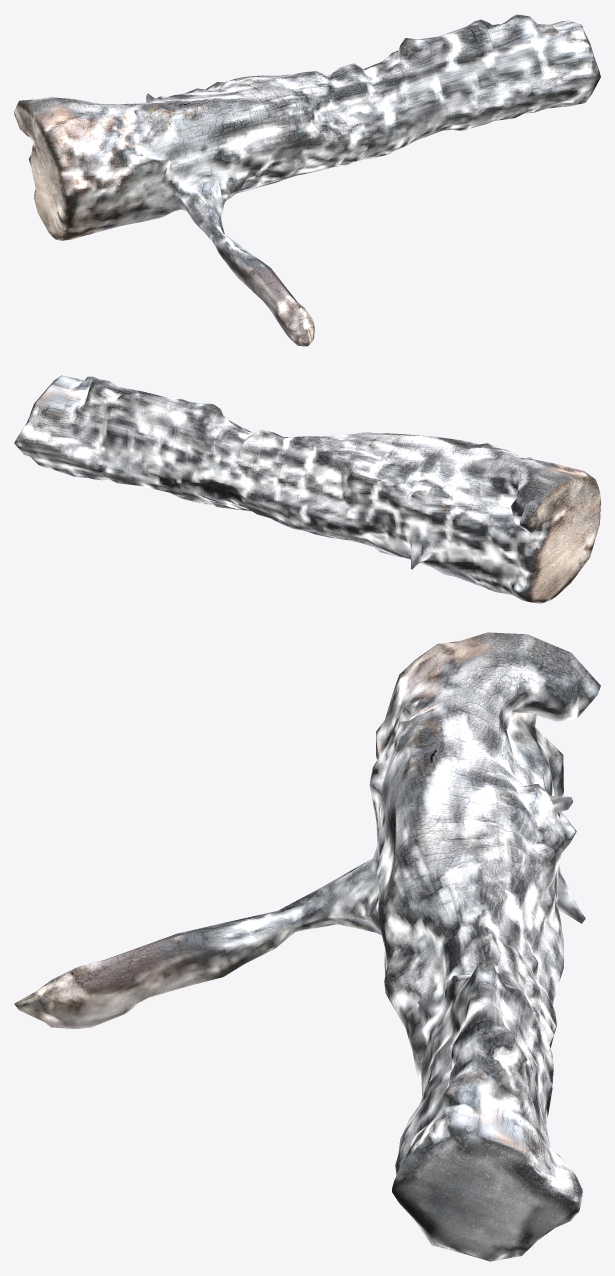
The model's file is SM_BurntLog_01_01.fbx.
3 renders of one model, top to bottom at view 1: azimuth 30°, elevation 25°; view 2: azimuth 150°, elevation 25°; view 3: azimuth 270°, elevation 25°, orthographic. The views are drawn at different scales.
Visible parts, largest first — view 1: sm_BurntLog_01_01_LOD0; view 2: sm_BurntLog_01_01_LOD0; view 3: sm_BurntLog_01_01_LOD0.
Boxes of the visible parts, <box> form: sm_BurntLog_01_01_LOD0: <box>14,14,600,346</box>; sm_BurntLog_01_01_LOD0: <box>14,375,600,603</box>; sm_BurntLog_01_01_LOD0: <box>14,632,600,1261</box>.
Bounding box in the file's own units: 36.42 × 65.9 × 19.66.
